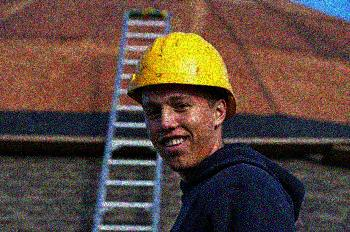helmet: (129, 31, 236, 169)
